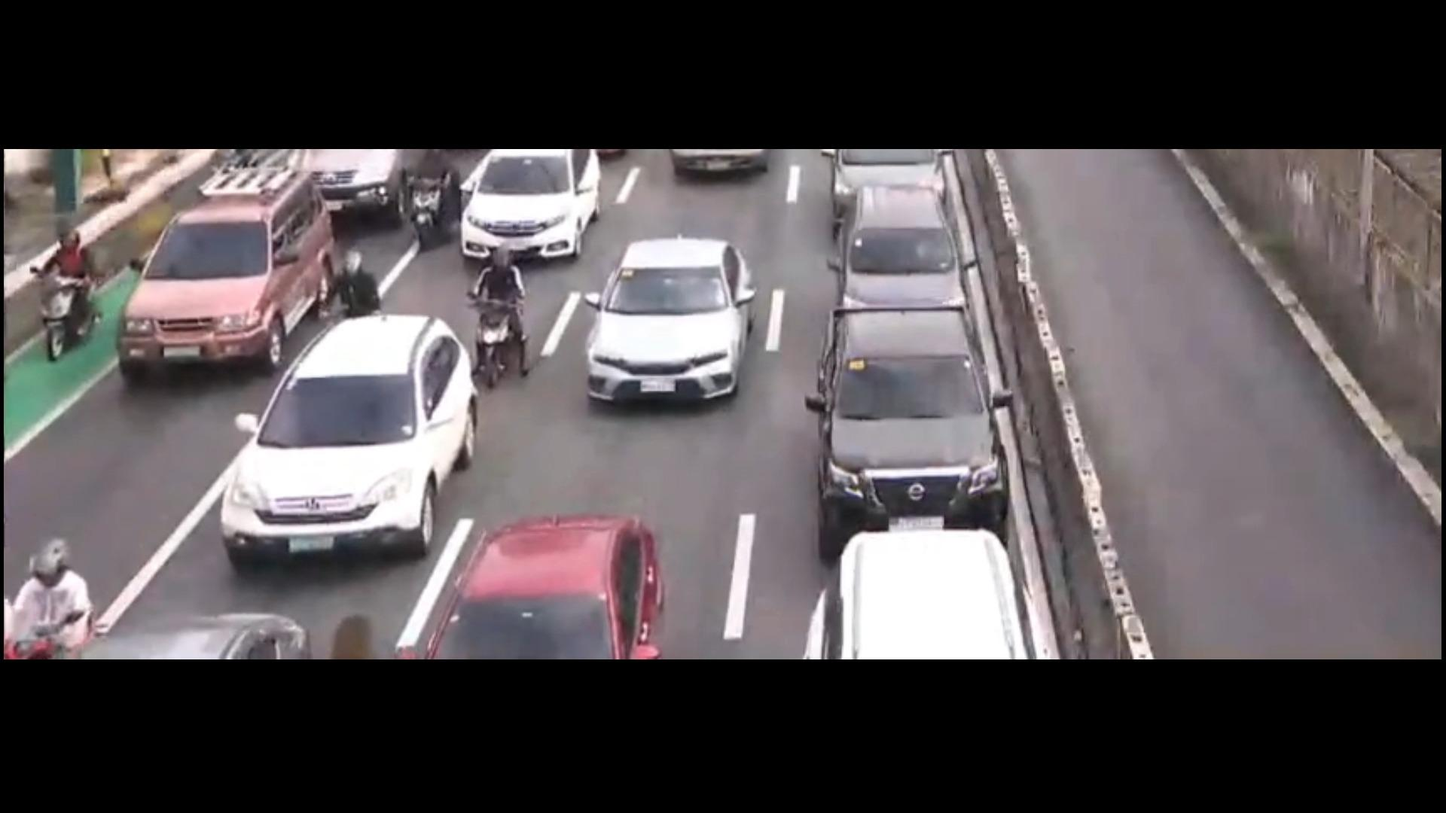Motorcycle: (28, 217, 115, 393), (468, 239, 543, 399), (7, 525, 95, 658), (393, 142, 473, 256), (317, 239, 400, 321)
Pickup: (772, 300, 1021, 553)
SUV: (207, 296, 496, 590), (113, 158, 347, 395)
Sedan: (406, 486, 689, 670), (572, 222, 765, 434), (799, 533, 1081, 669), (819, 179, 1002, 327), (437, 149, 626, 273)
